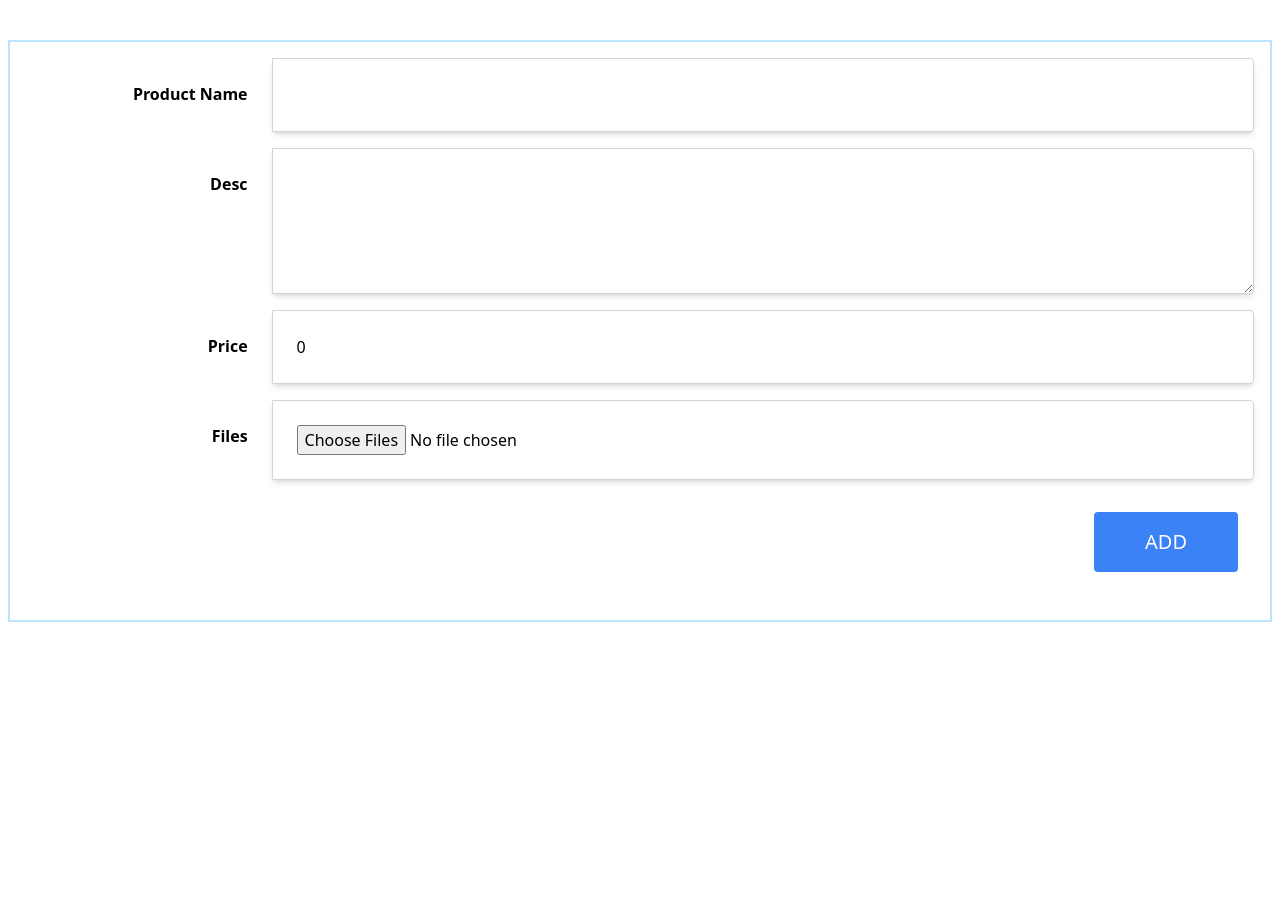
Test case: clears the loading modal after a failed product registration
Click the button "ADD". click: (1166, 542)
box: [1094,512,1238,572]
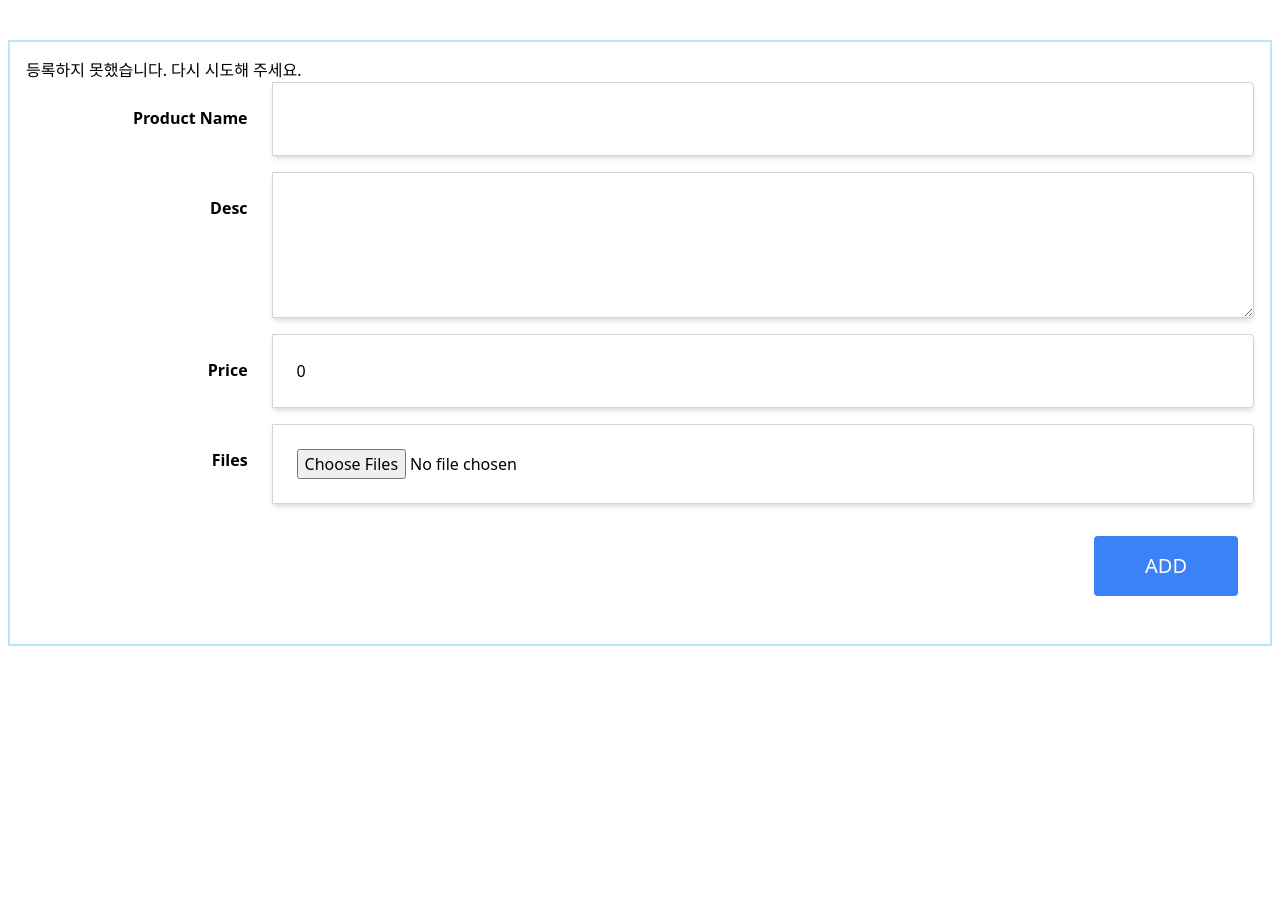
Check: the message shows "등록하지 못했습니다.", box [26,59,302,81]
